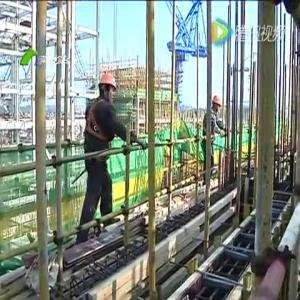yellow: (98, 73, 118, 103), (212, 93, 222, 111)
